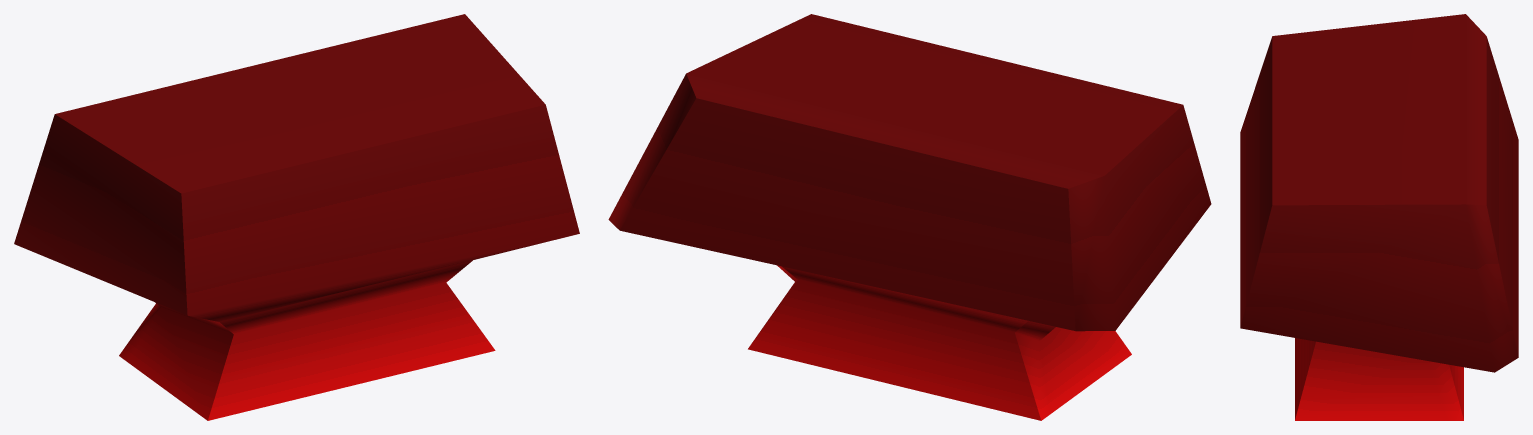
The model's file is SM_HammerTower_Top.fbx.
3 renders of one model, left to right at view 1: azimuth 30°, elevation 25°; view 2: azimuth 150°, elevation 25°; view 3: azimuth 270°, elevation 25°, orthographic. The views are drawn at different scales.
Parts seen in each view (by area): view 1: Top; view 2: Top; view 3: Top.
Part boxes in pixels (<box>): Top: <box>14,14,579,420</box>; Top: <box>608,14,1211,420</box>; Top: <box>1240,14,1518,420</box>.
Bounding box in the file's own units: 186 × 91.94 × 95.14.
